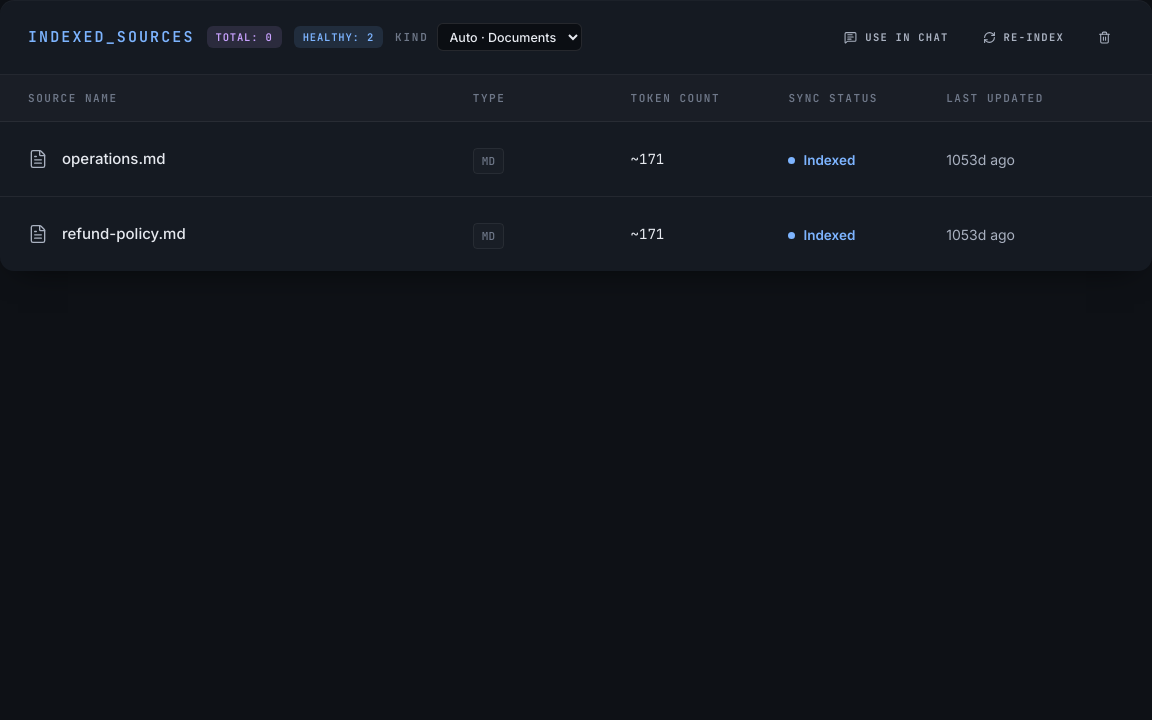
Test: source dialog › opens a related file that is in the knowledge base, and only those
What coordinates should you click on to do the following:
click the button with aria-label "View operations.md"
I would click on:
 (97, 159)
Its box is [28,148,166,170].
(page scrolled)
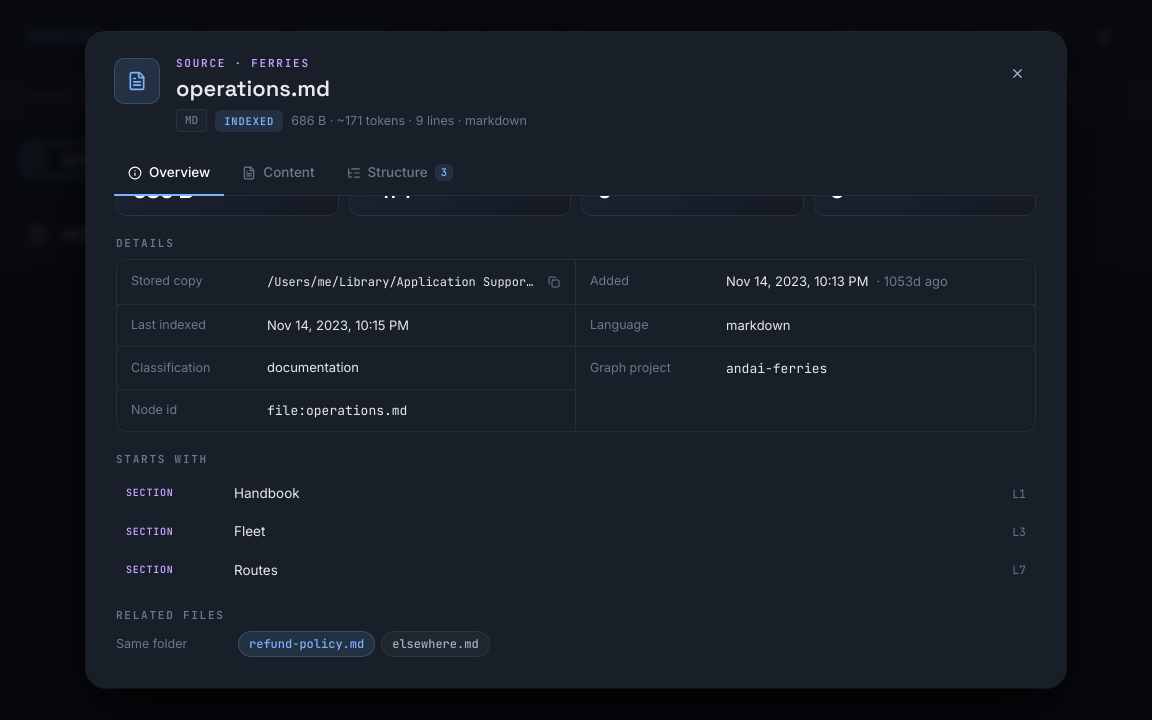
Expected: the text "kb/ferries/docs/operations.md" is shown, [267,274,865,290]
What coordinates should you click on to do the following:
click the button "refund-policy.md"
I would click on:
 (307, 644)
Its box is [238,631,375,657].
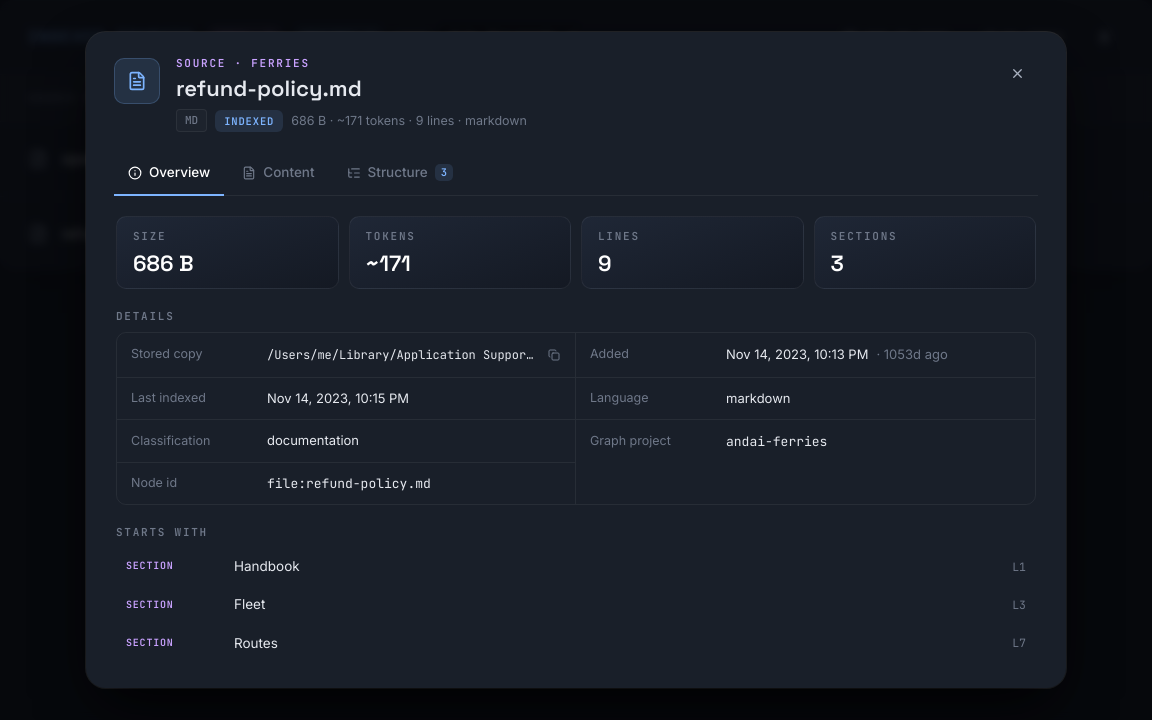
Expected: the dialog named "Source refund-policy.md" is shown
